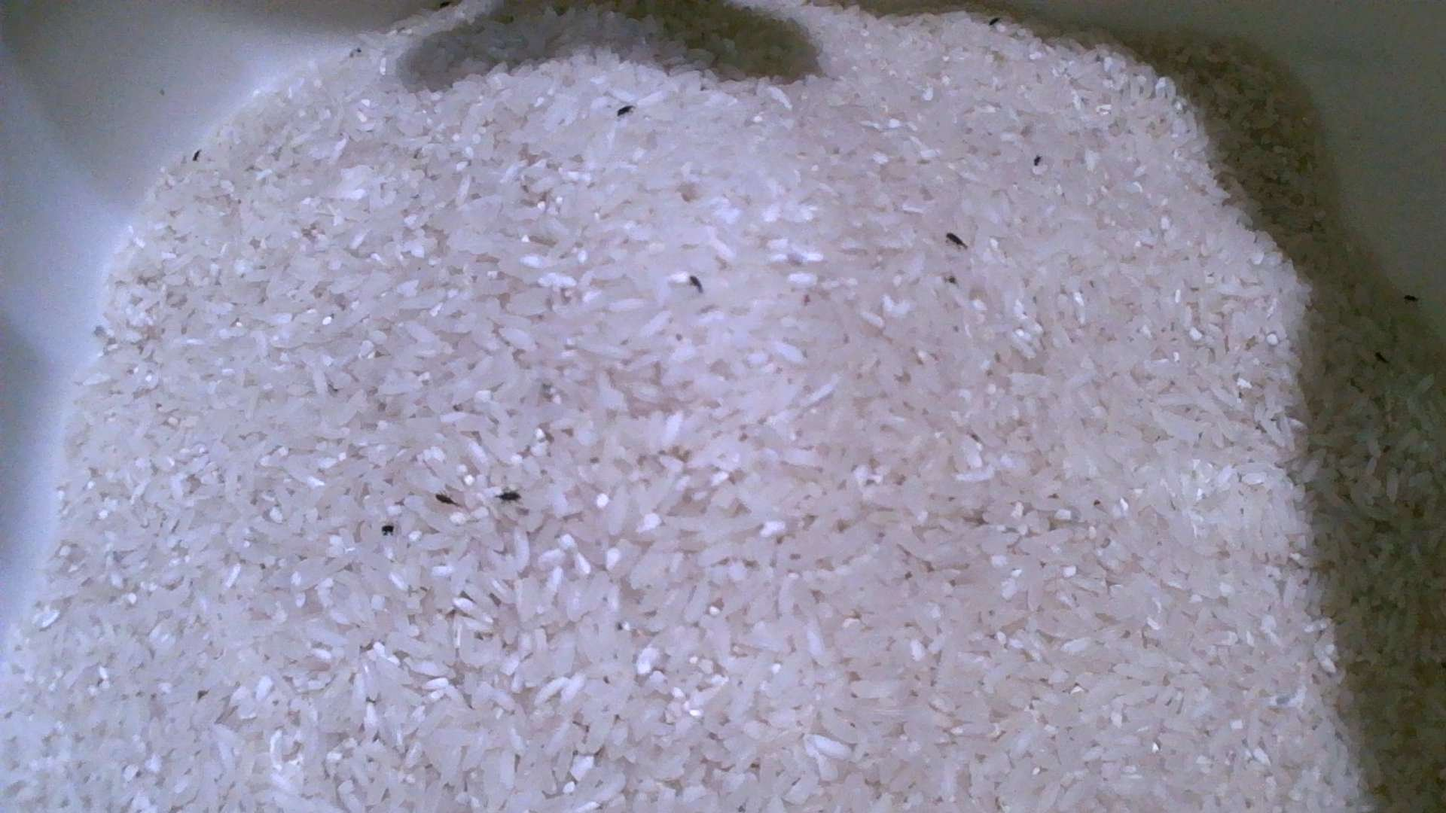Sitophilus-Oryzae: (946, 232, 966, 247), (498, 489, 521, 502), (688, 275, 704, 293), (435, 493, 455, 504), (617, 105, 634, 117), (1033, 155, 1042, 166)
